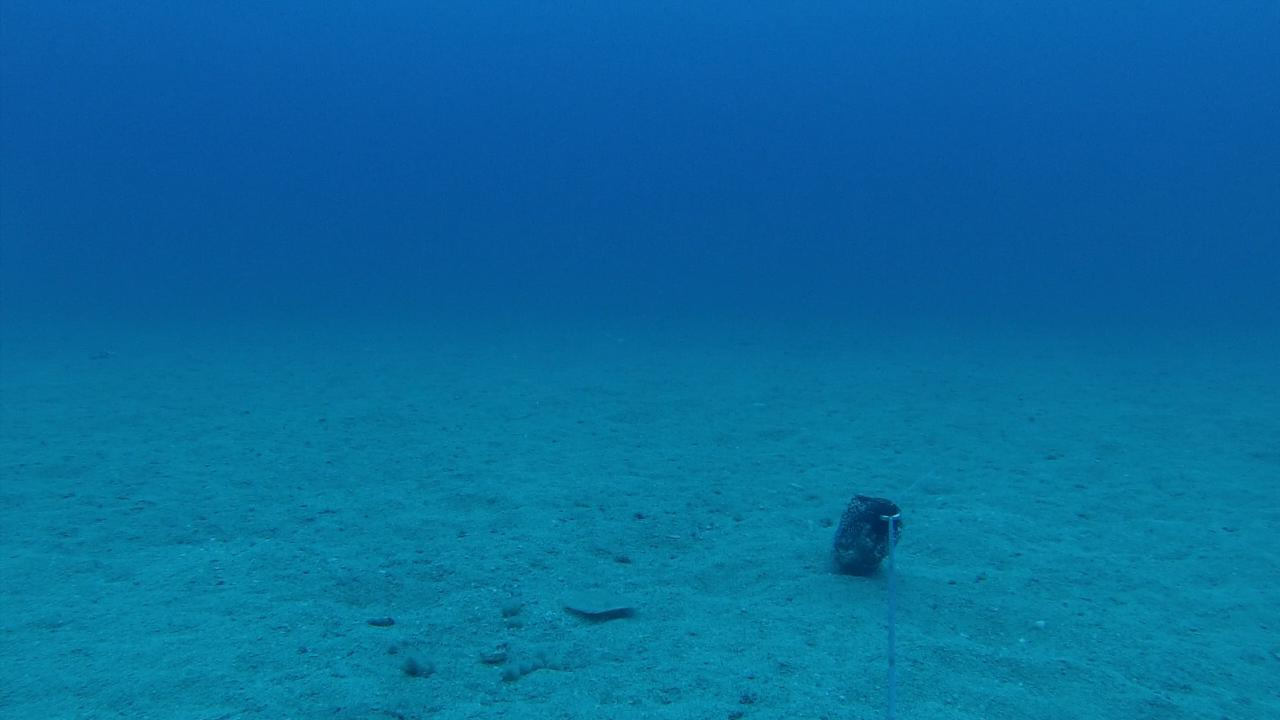bothus: (544, 581, 642, 631)
